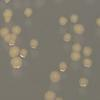yellow: (10, 57, 24, 71), (38, 89, 55, 100), (81, 43, 93, 57), (2, 32, 16, 43), (80, 75, 91, 88), (29, 38, 41, 49), (72, 23, 84, 34), (7, 47, 20, 57), (18, 46, 28, 59), (69, 11, 79, 23), (70, 52, 82, 62), (3, 8, 12, 21), (23, 7, 33, 18), (12, 24, 23, 34), (71, 42, 82, 52), (0, 26, 8, 39), (55, 62, 68, 70), (58, 15, 68, 25), (83, 57, 93, 67), (51, 72, 60, 82), (64, 32, 71, 42), (1, 0, 12, 5), (95, 16, 100, 27), (55, 97, 62, 100)
